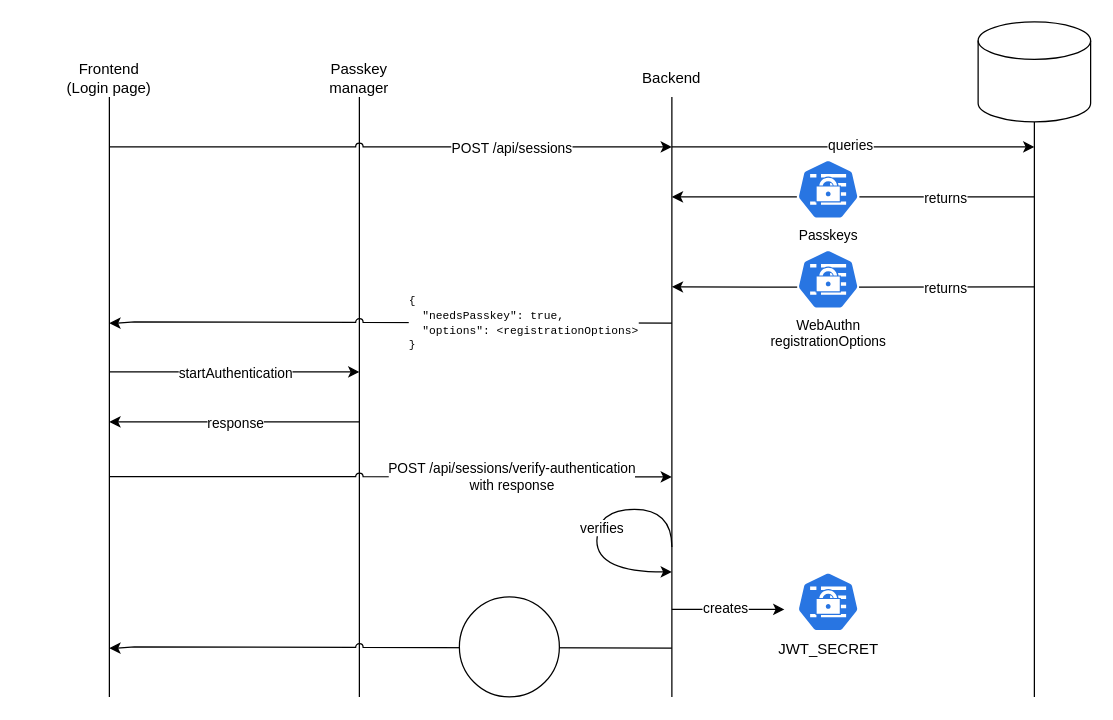
This 1113x720 diagram has some shape labels left out. Each missing label, with the centre of its shape:
"JWT in HTTP-only cookie" belongs at (x=508, y=646).
"MongoDB" belongs at (x=1034, y=71).
